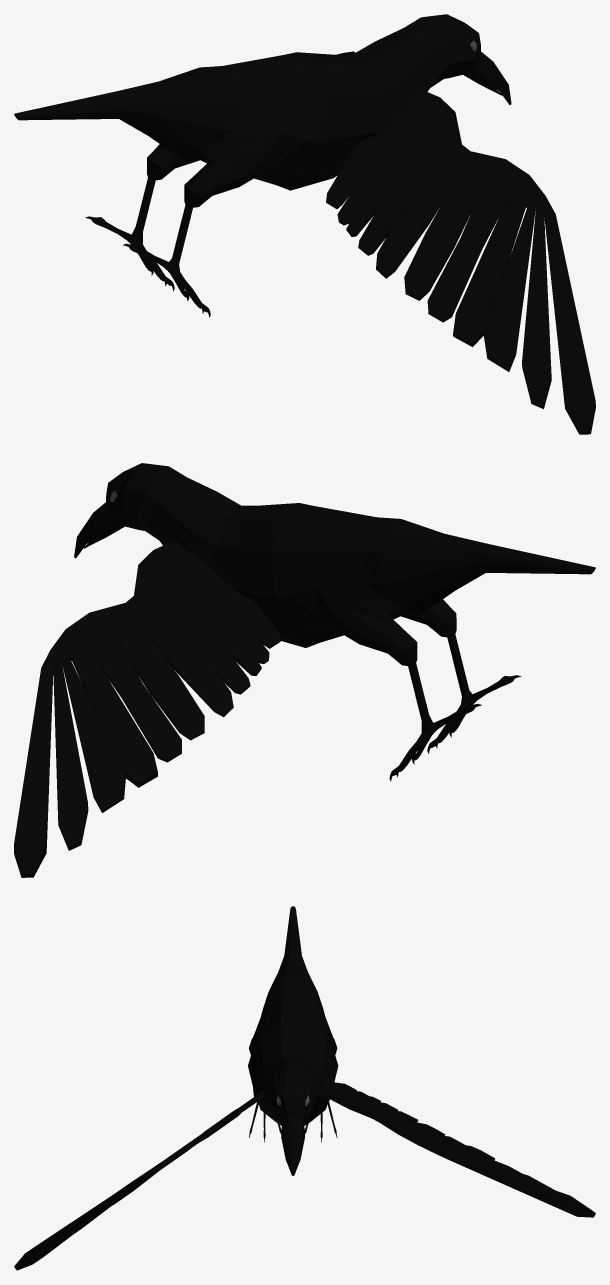
The model's file is crow_down_000006.obj.
The picture shows the model from 3 angles, top to bottom: view 1: azimuth 30°, elevation 25°; view 2: azimuth 150°, elevation 25°; view 3: azimuth 270°, elevation 25°; orthographic projection. The views are drawn at different scales.
Parts seen in each view (by area): view 1: Cylinder; view 2: Cylinder; view 3: Cylinder.
Part boxes in pixels (<box>): Cylinder: <box>14,14,595,434</box>; Cylinder: <box>14,463,595,877</box>; Cylinder: <box>14,906,595,1270</box>.
Size of the model in its own units: 1.59 by 0.8704 by 2.11.
